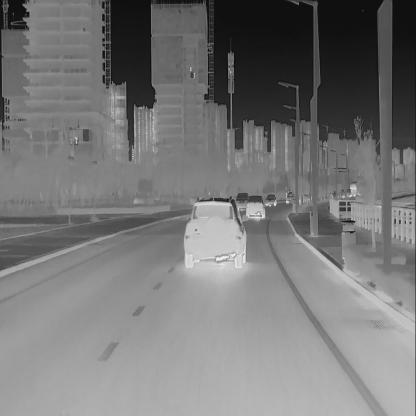car: (183, 196, 248, 270), (246, 193, 265, 218), (235, 191, 249, 212), (265, 193, 277, 207), (348, 181, 357, 198), (285, 191, 295, 204)
